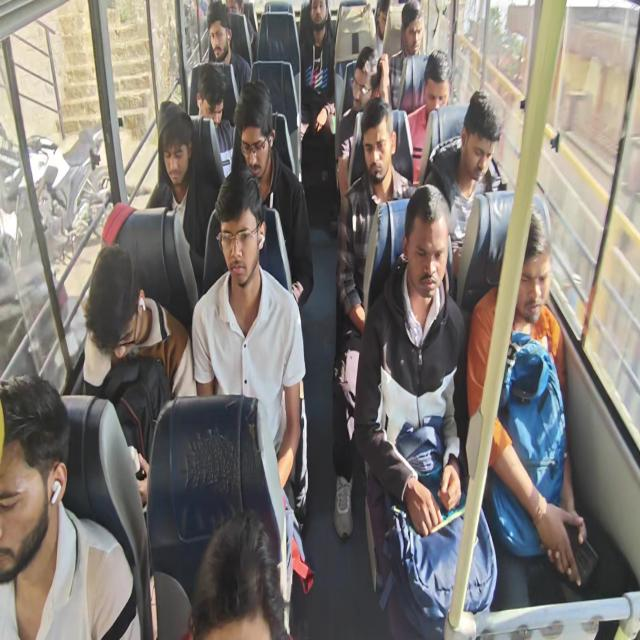person: (0, 374, 73, 576), (196, 526, 286, 640), (91, 248, 153, 360), (506, 212, 555, 324), (405, 209, 450, 311), (215, 186, 261, 274), (159, 100, 197, 189), (458, 96, 495, 183), (364, 119, 398, 181), (344, 55, 378, 108), (426, 56, 452, 119), (399, 10, 427, 56), (373, 0, 396, 42), (208, 21, 232, 59), (304, 0, 328, 31)
